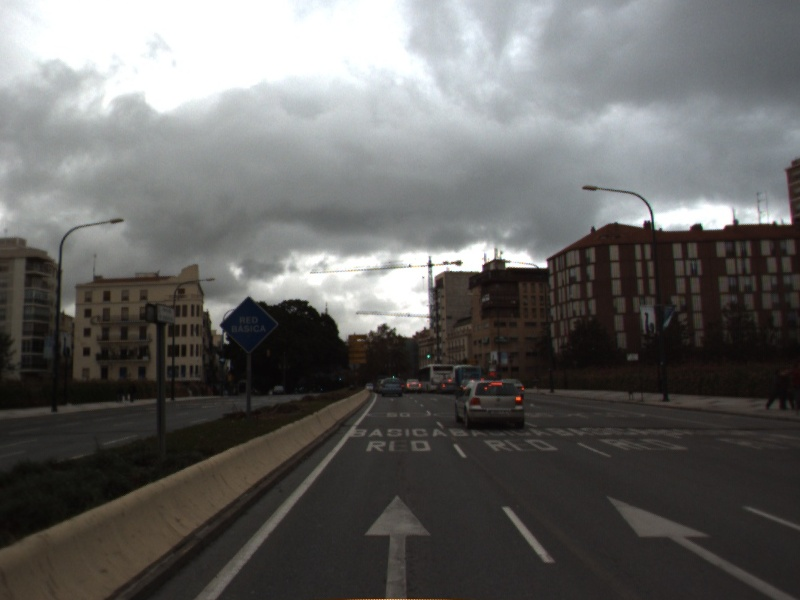STRAIGHT: (601, 491, 800, 600), (360, 490, 436, 600)
